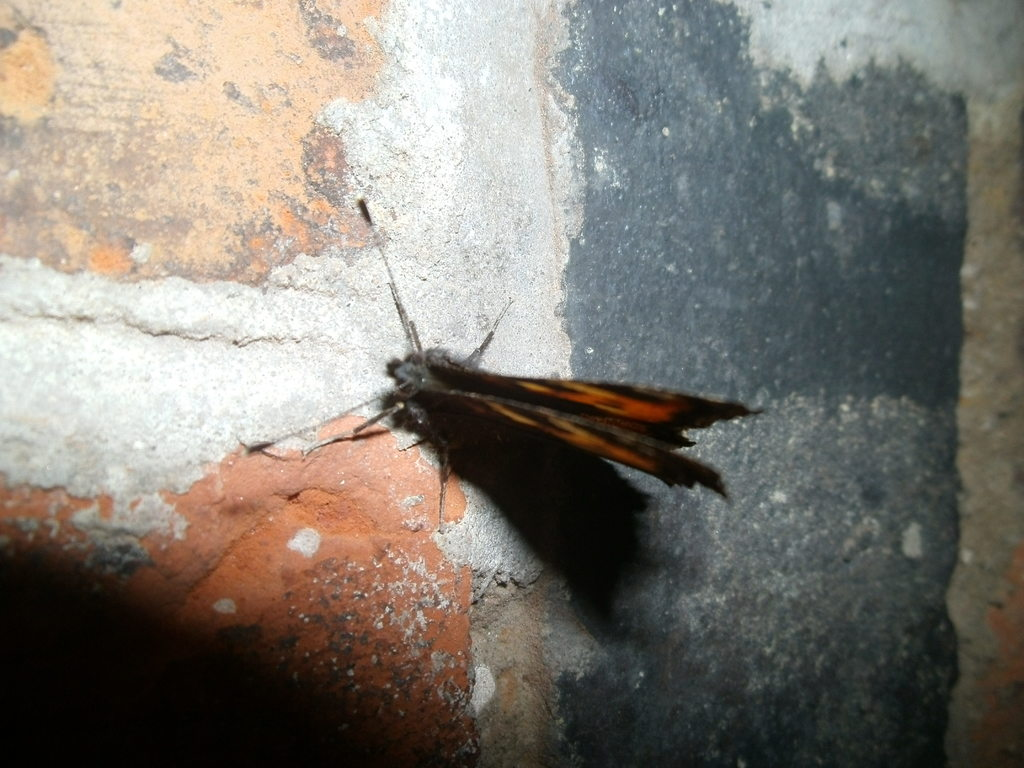Butterfly: (362, 293, 759, 512)
